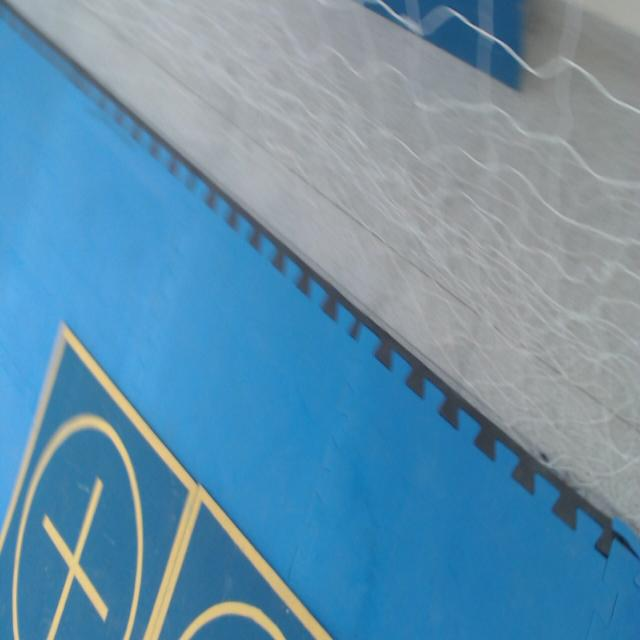base_pouso: (0, 321, 200, 639), (150, 484, 336, 639)
